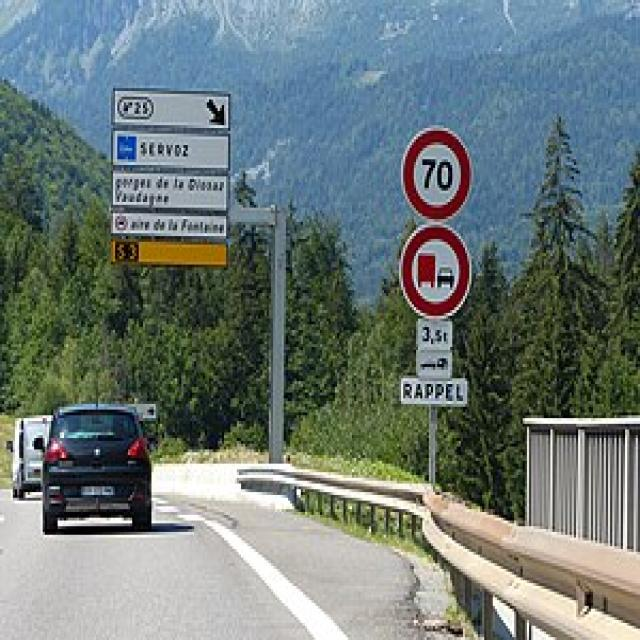direction: (112, 116, 238, 178), (103, 167, 237, 212), (100, 204, 237, 242)
forbidden: (395, 220, 480, 322)
speed_70: (399, 118, 477, 223)
